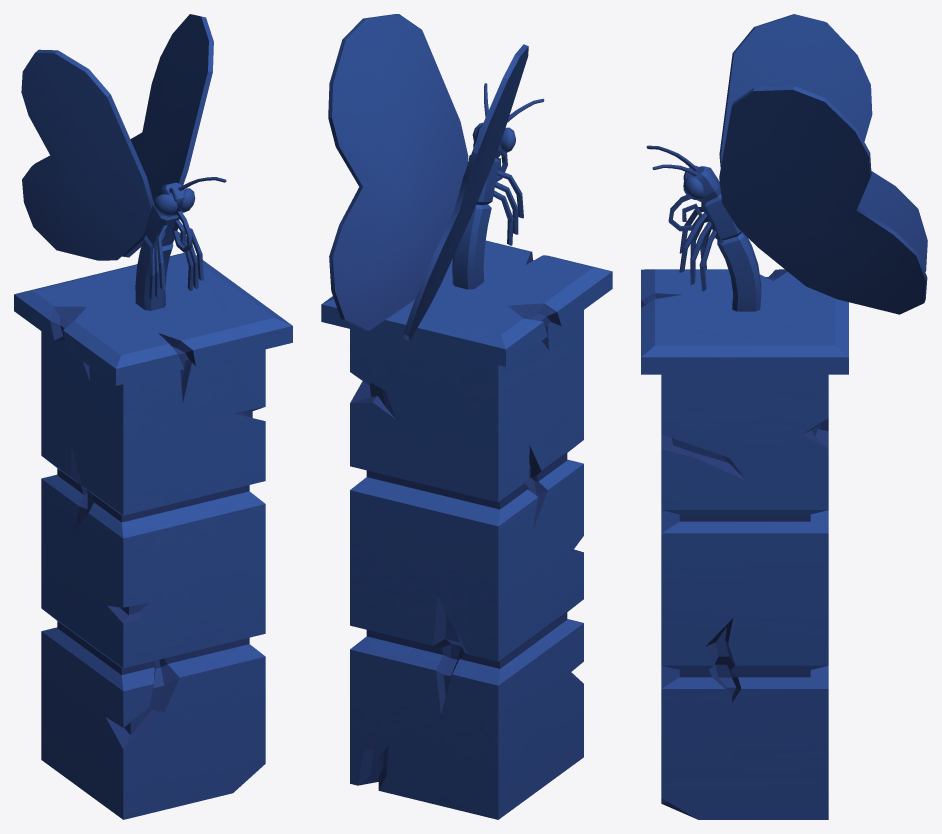
File: SM_WallCorner_04.fbx
3 views of the same model, side by side, from view 1: azimuth 30°, elevation 25°; view 2: azimuth 150°, elevation 25°; view 3: azimuth 270°, elevation 25° (orthographic). The views are drawn at different scales.
Parts seen in each view (by area): view 1: polySurface136; view 2: polySurface136; view 3: polySurface136.
Part boxes in pixels (x1,y1,x2,y2): polySurface136: (14, 14, 292, 819); polySurface136: (321, 14, 612, 819); polySurface136: (641, 14, 927, 819).
Bounding box in the file's own units: 59.84 × 233 × 82.49.
